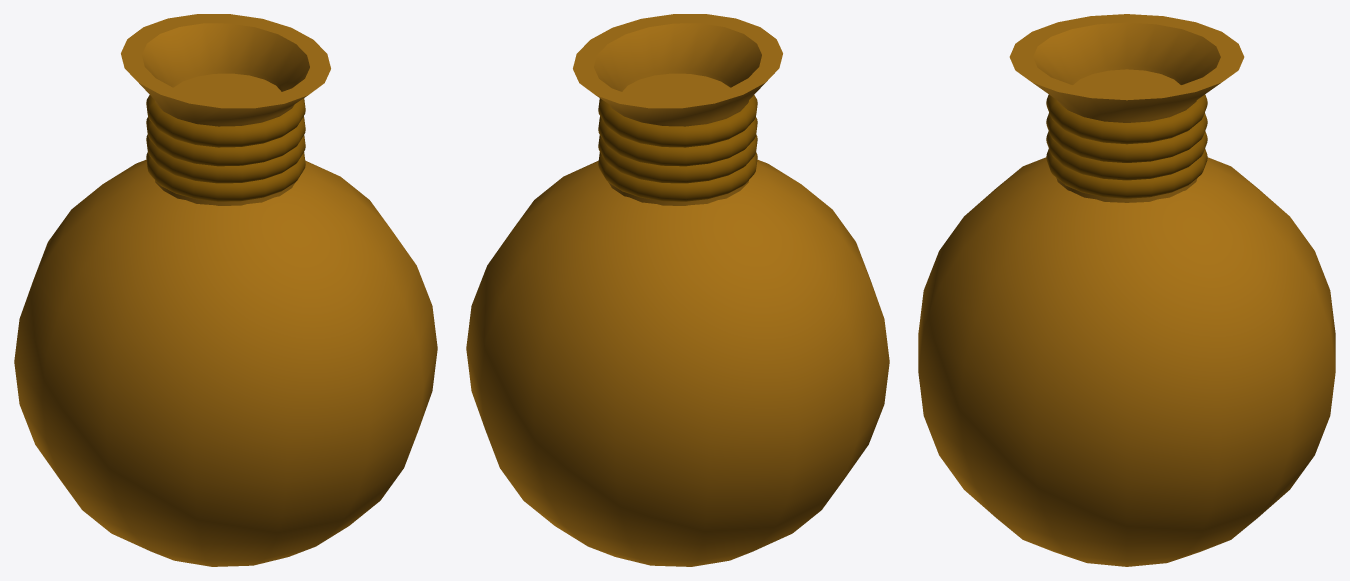
Rendered from seedpouch.fbx.
3 views of the same model, side by side, from view 1: azimuth 30°, elevation 25°; view 2: azimuth 150°, elevation 25°; view 3: azimuth 270°, elevation 25° (orthographic).
Visible parts, largest first — view 1: Pouch, PouchTip, Tie3, Tie2, Tie1, Tie4, insideBlocker; view 2: Pouch, PouchTip, Tie3, Tie2, Tie1, Tie4, insideBlocker; view 3: Pouch, PouchTip, Tie3, Tie2, Tie1, Tie4, insideBlocker.
Part boxes in pixels (x1,y1,x2,y2): Pouch: (14, 159, 437, 566); PouchTip: (121, 14, 330, 205); Tie3: (146, 95, 305, 147); Tie2: (146, 116, 305, 166); Tie1: (146, 152, 305, 201); Tie4: (146, 134, 305, 183); insideBlocker: (173, 73, 281, 98); Pouch: (466, 159, 889, 566); PouchTip: (573, 14, 782, 205); Tie3: (598, 95, 757, 147); Tie2: (598, 116, 757, 166); Tie1: (598, 152, 757, 201); Tie4: (598, 134, 757, 183); insideBlocker: (622, 73, 730, 98); Pouch: (918, 157, 1335, 566); PouchTip: (1009, 14, 1244, 202); Tie3: (1046, 94, 1207, 144); Tie2: (1046, 113, 1207, 162); Tie1: (1046, 149, 1207, 198); Tie4: (1046, 131, 1207, 180); insideBlocker: (1073, 69, 1180, 91).
Bounding box in the file's own units: 2.3 × 2.91 × 2.25.
